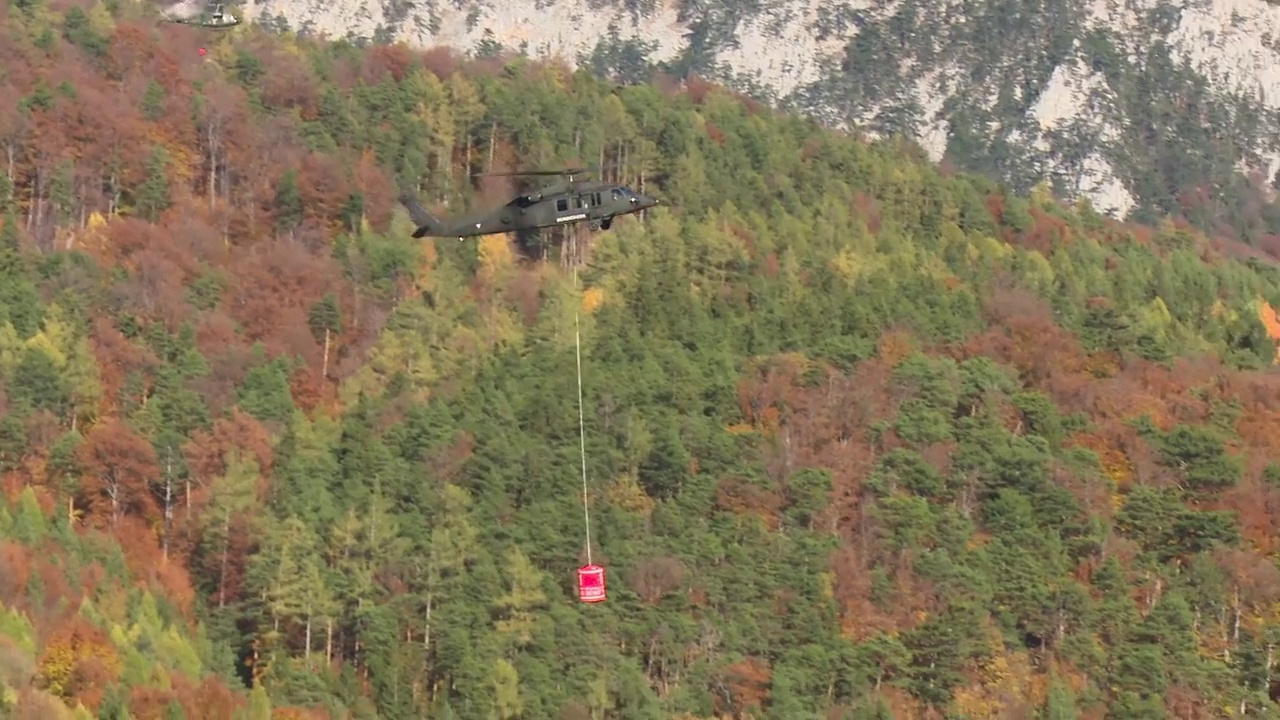heli: (402, 166, 662, 242), (155, 1, 243, 32)
